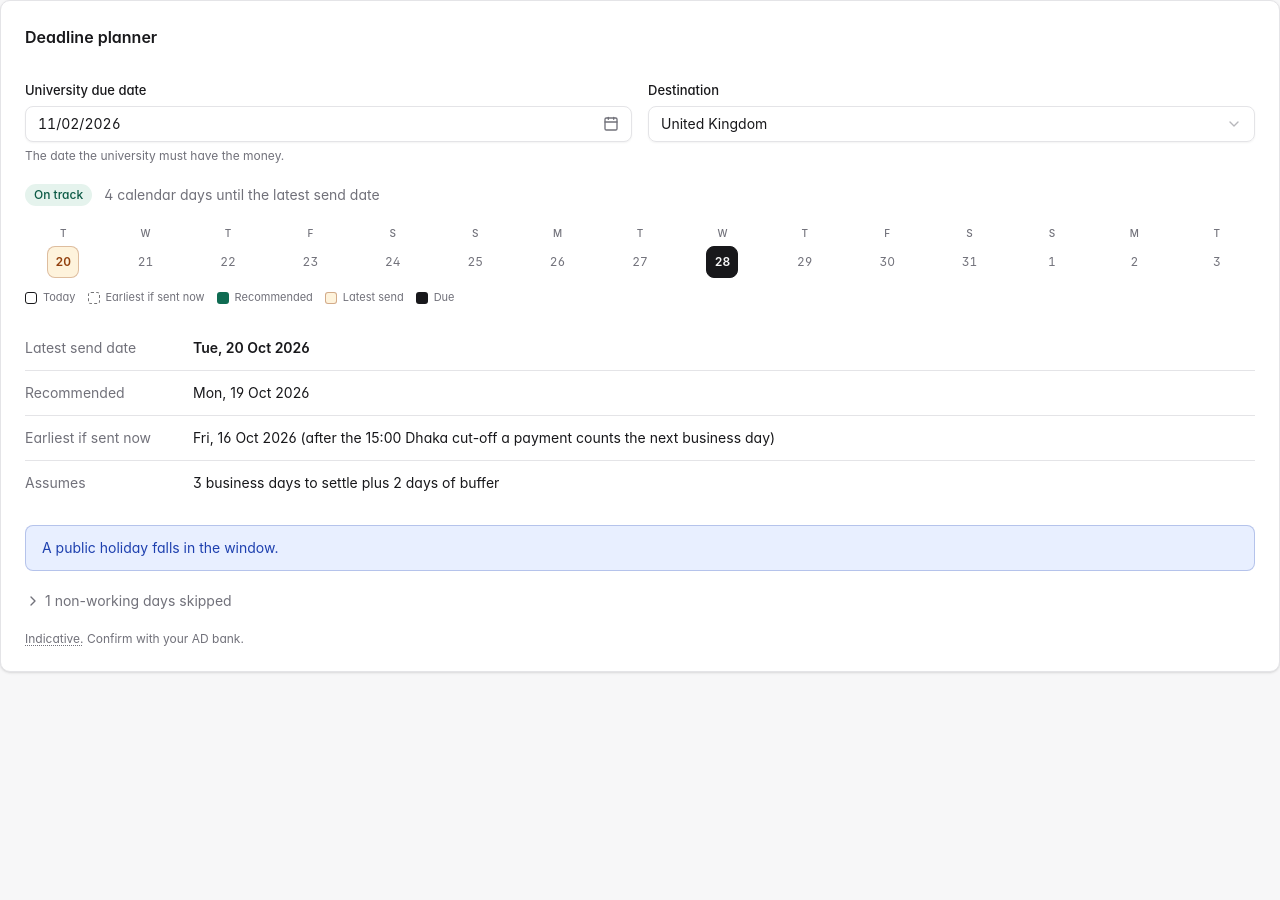
Test: PlannerCard (deadline) › lists the warnings and the skipped days, and always says it is indicative
This screenshot has width=1280, height=900.
expect the text "A public holiday falls in the window." is shown: met, box [42, 538, 278, 556]
Click the button "1 non-working days skipped": (128, 600) [25, 590, 232, 610]
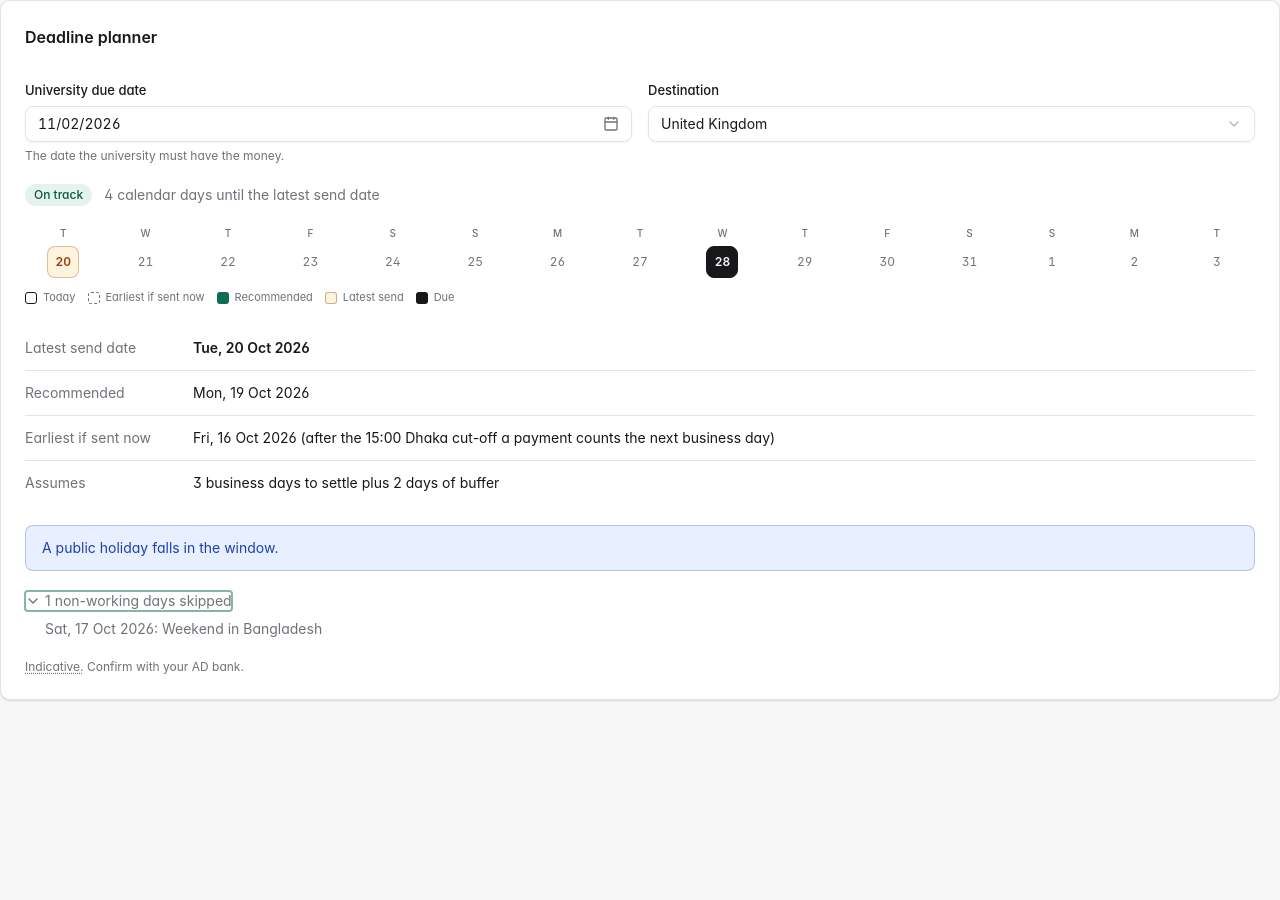
expect the button "Indicative." is shown: met, box [25, 658, 84, 674]
expect the list item "Sat, 17 Oct 2026: Weekend in Bangladesh" is shown: met, box [45, 620, 322, 636]
